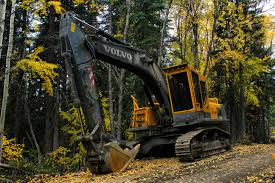excavator: (56, 14, 234, 174)
